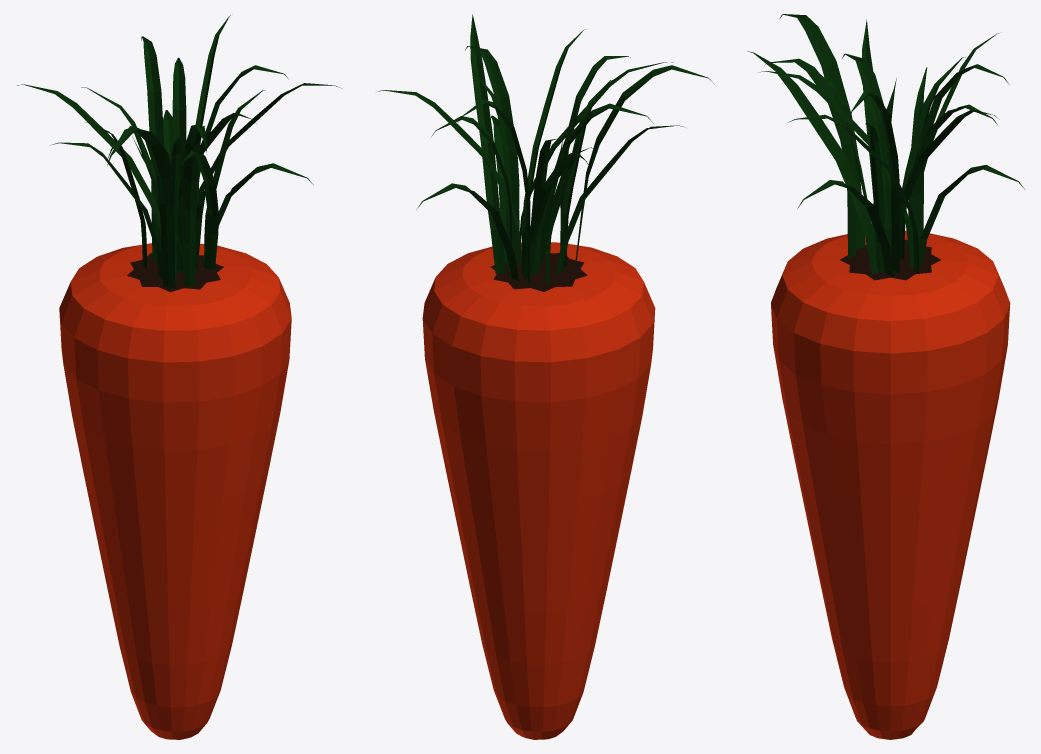
Rendered from carrot.obj.
The picture shows the model from 3 angles, left to right: view 1: azimuth 30°, elevation 25°; view 2: azimuth 150°, elevation 25°; view 3: azimuth 270°, elevation 25°; orthographic projection. The views are drawn at different scales.
Parts seen in each view (by area): view 1: Cylinder, Low_Grass; view 2: Cylinder, Low_Grass; view 3: Cylinder, Low_Grass.
Boxes of the visible parts, x1,y1,x2,y2 form: Cylinder: (59, 243, 291, 739); Low_Grass: (17, 15, 341, 288); Cylinder: (422, 242, 655, 739); Low_Grass: (378, 14, 714, 284); Cylinder: (771, 230, 1010, 739); Low_Grass: (747, 14, 1024, 276).
Bounding box in the file's own units: 2.31 × 5.7 × 2.14.
